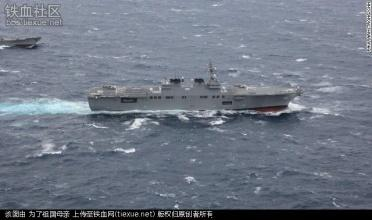warship: (83, 59, 320, 113)
